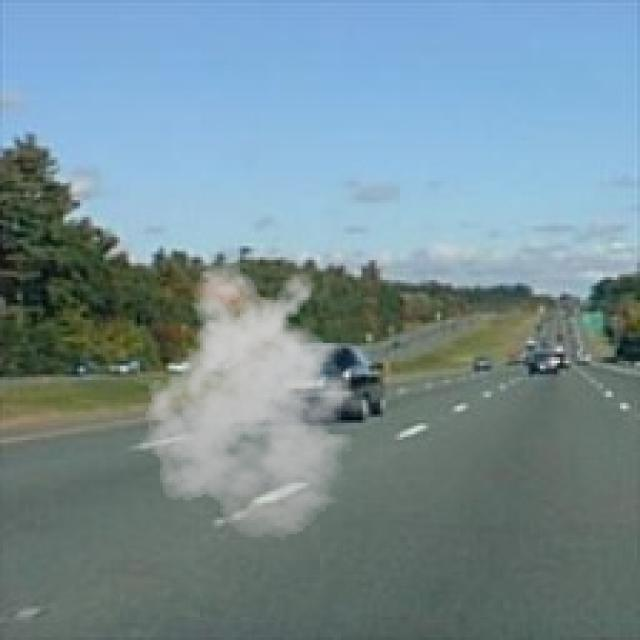Smoke: (131, 260, 380, 540)
